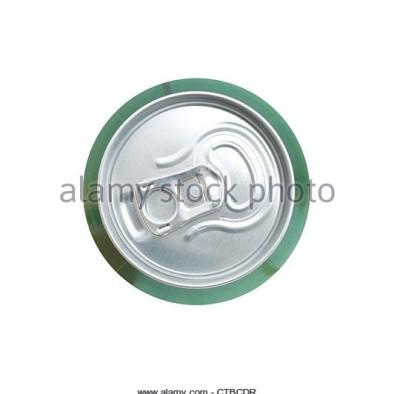beer: (84, 79, 313, 307)
